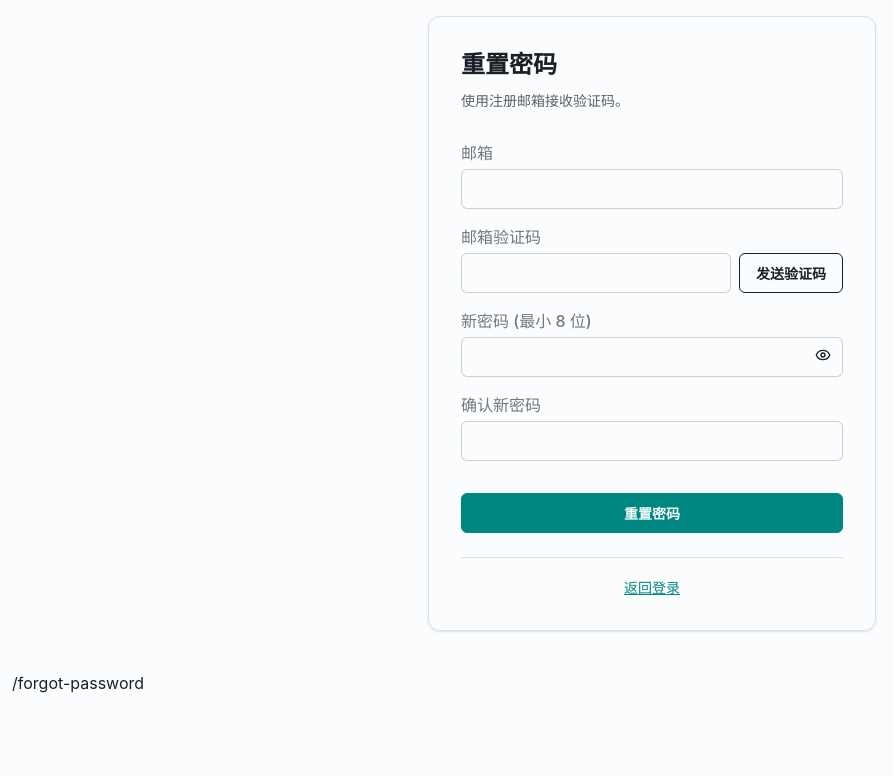
ForgotPasswordPage › uses enumeration-safe copy and resets an anonymous account
Step 1. Type "user@example.test" into the field labelled "邮箱" → (652, 189), box [461,169,843,209]
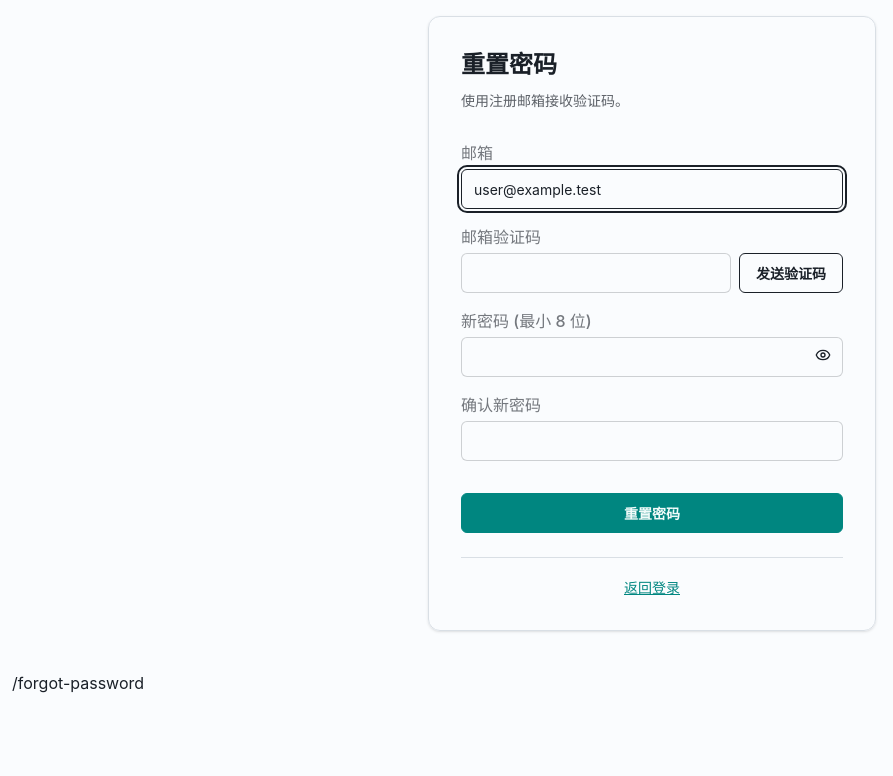
Step 2. Click the button "发送验证码" → (791, 273), box [739,253,843,293]
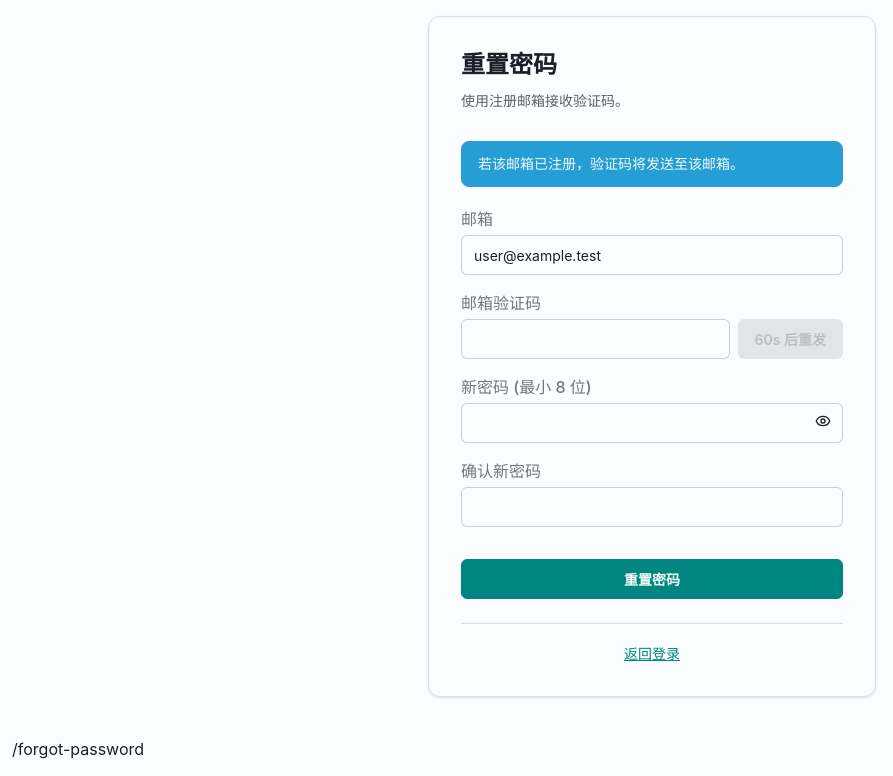
Expected: the text "若该邮箱已注册，验证码将发送至该邮箱。" is shown, [461,141,843,187]
Step 3. Type "123456" into the field labelled "邮箱验证码" → (595, 339), box [461,319,730,359]
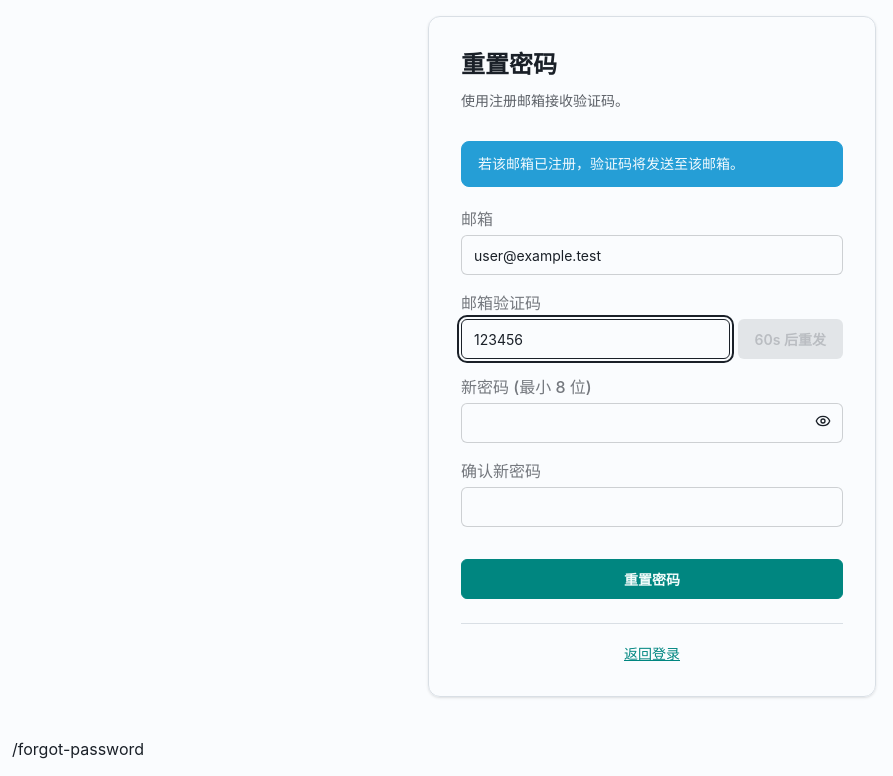
Step 4. Type "new-password" into the password field labelled "新密码 (最小 8 位)" → (652, 423), box [461,403,843,443]
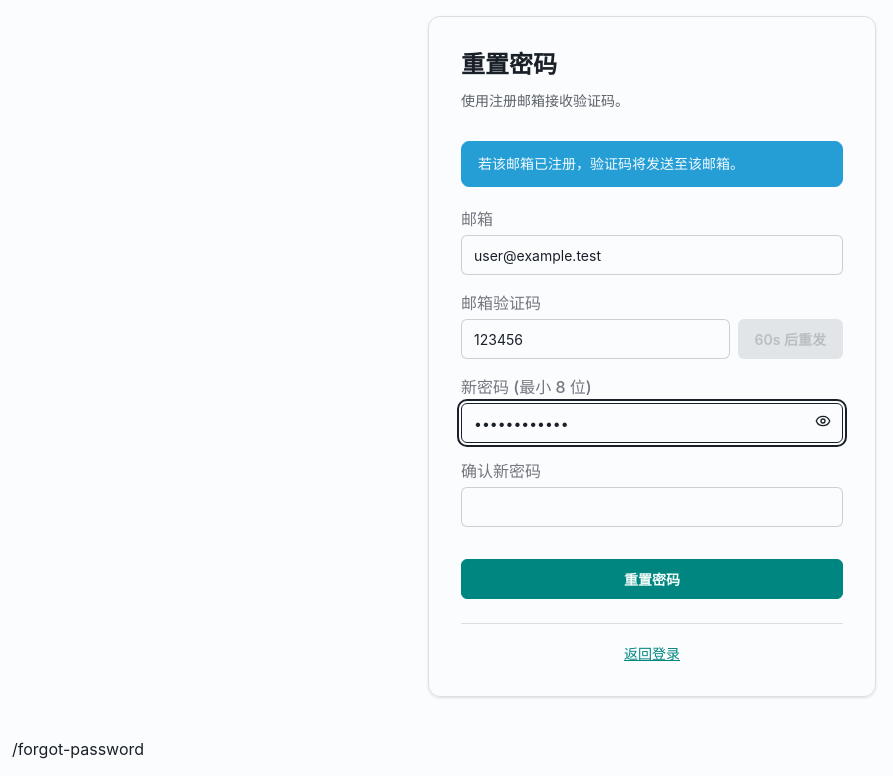
Step 5. Type "new-password" into the password field labelled "确认新密码" → (652, 507), box [461,487,843,527]
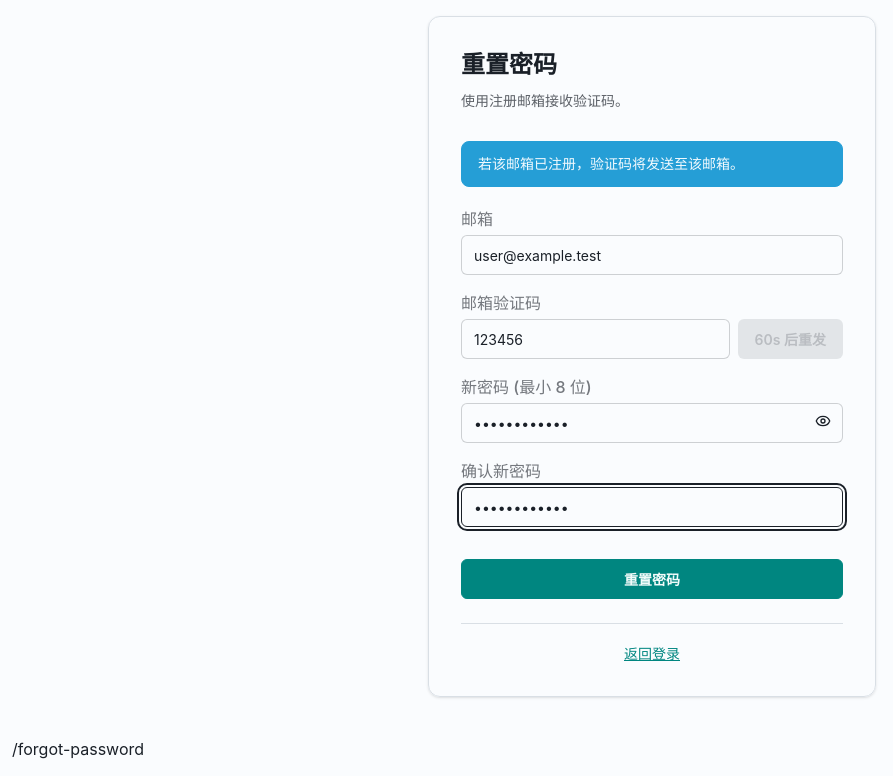
Step 6. Click the button "重置密码" → (652, 579), box [461,559,843,599]
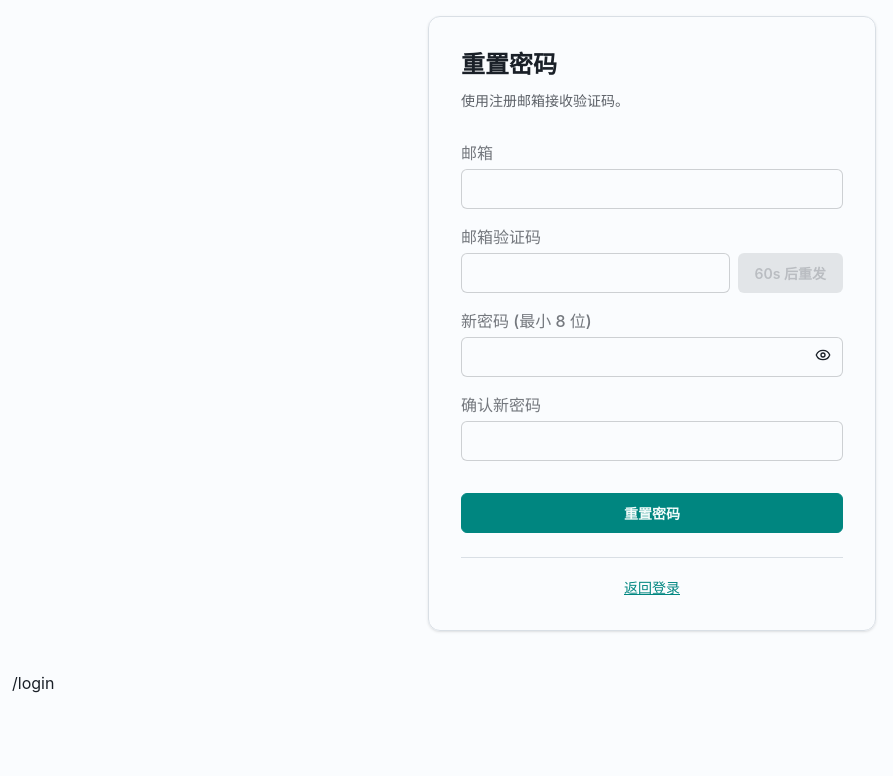
Expected: the text "/login" is shown, [12,673,54,693]
